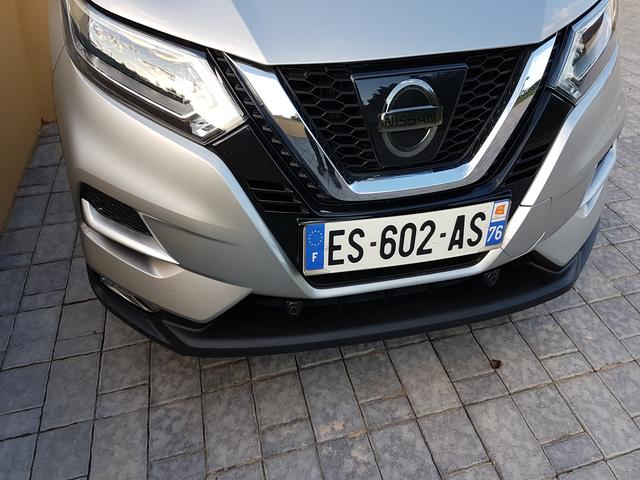Quashquai: (281, 178, 526, 278)
